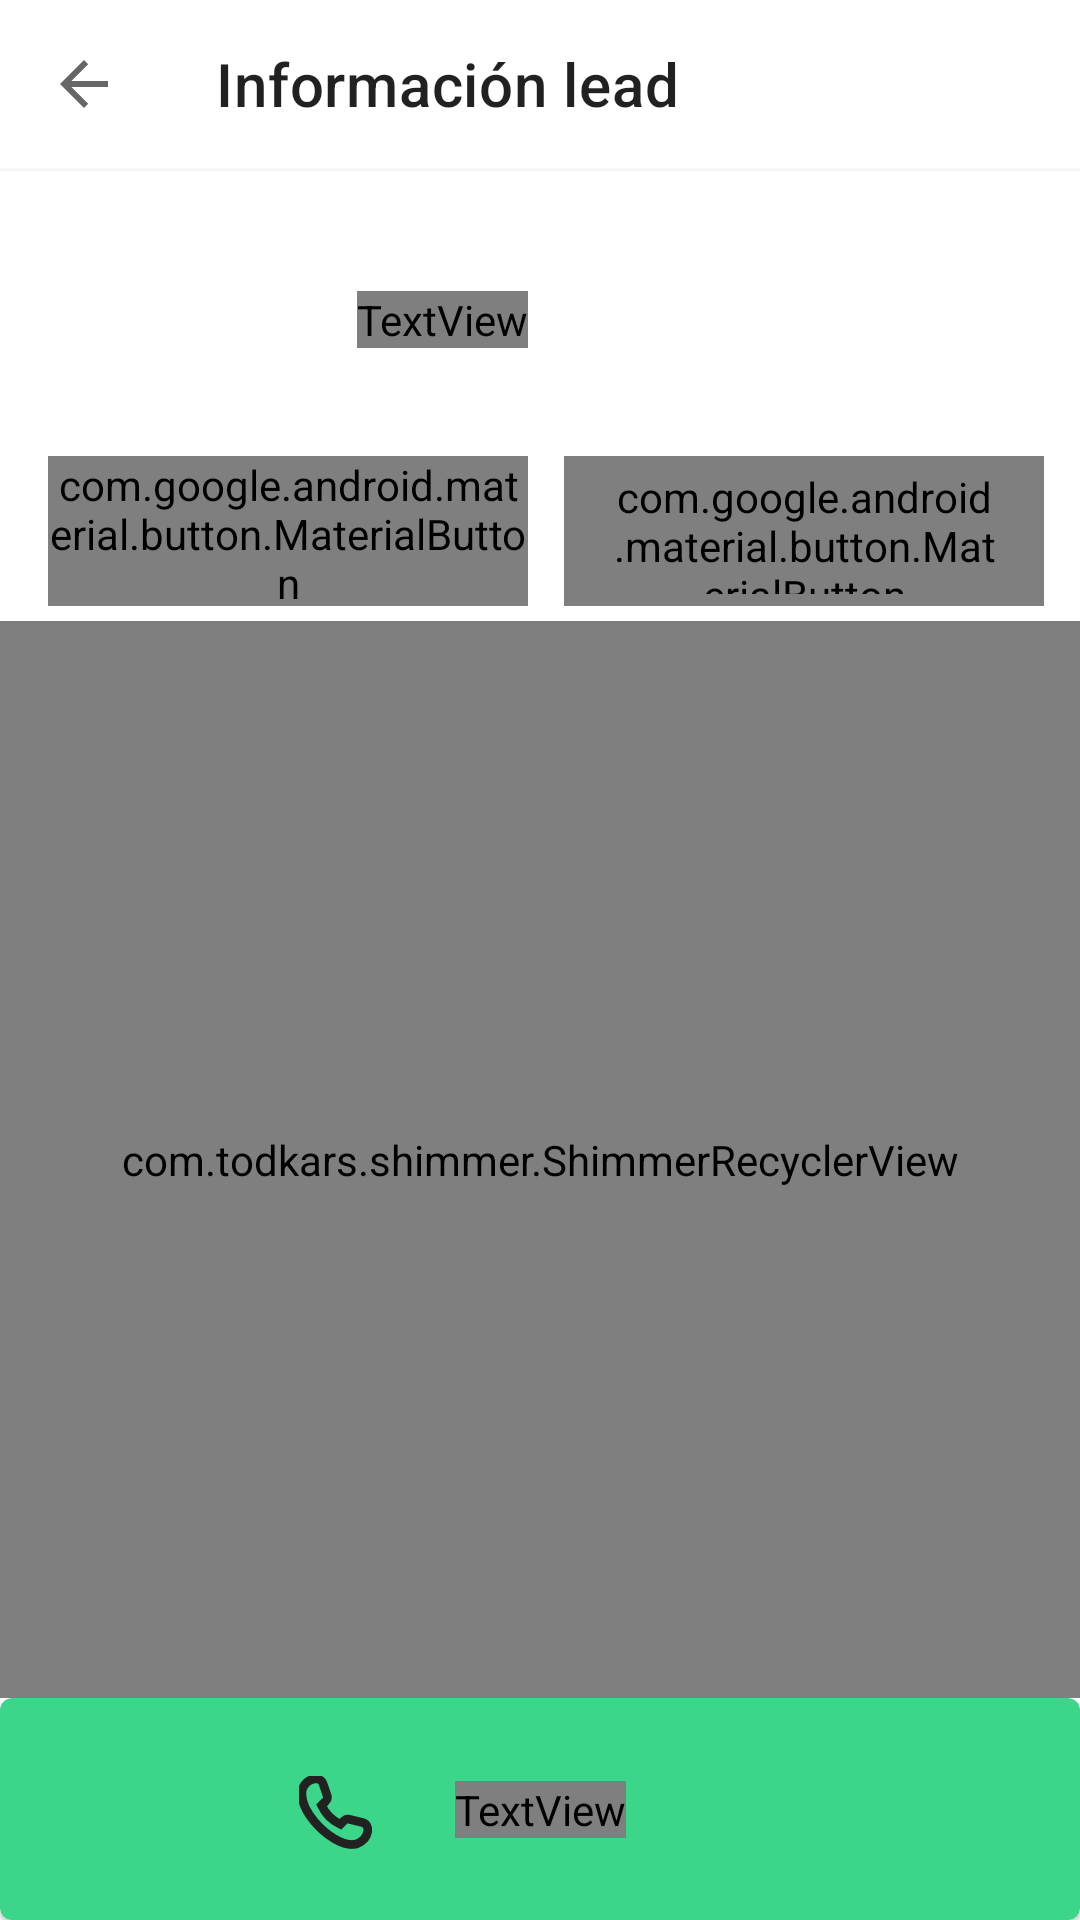

Locate icon controls on the screen. Image size 1080w x 1920h, boxes as (x1, y1, x2, y2).
phone: (299, 1776, 372, 1849)
